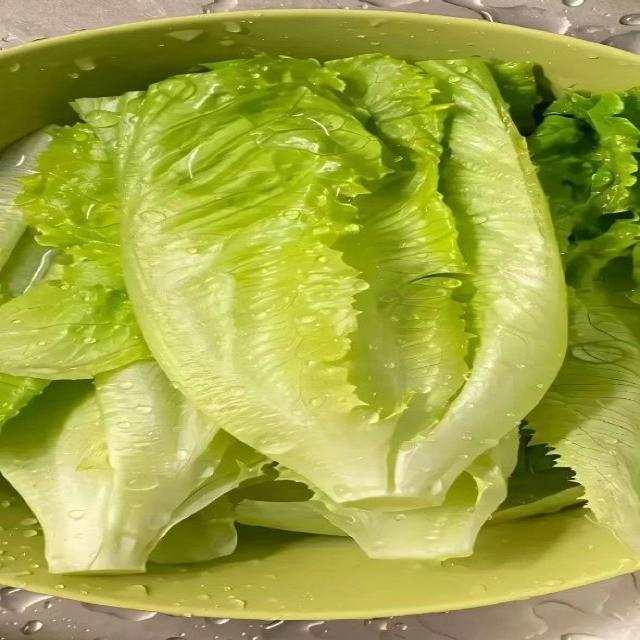lettuce: (108, 58, 392, 500), (396, 60, 566, 500), (0, 361, 264, 573), (527, 92, 639, 553), (0, 125, 148, 379), (0, 133, 48, 304), (0, 132, 48, 269)
